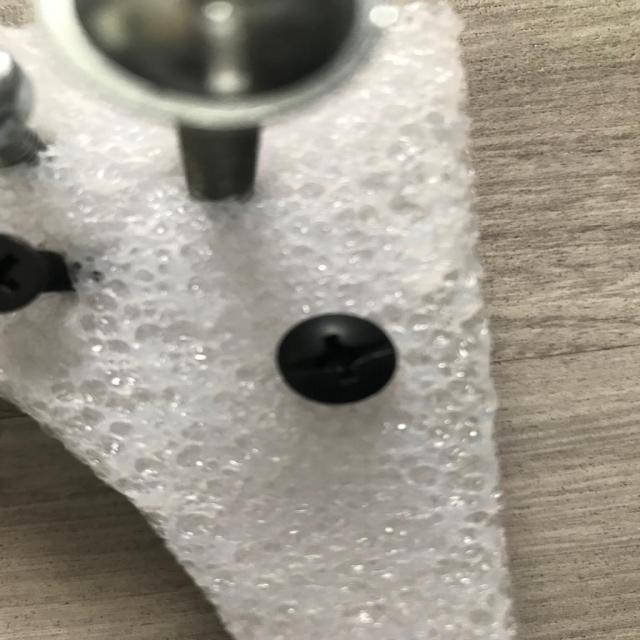PhillipsScrewHead: (277, 310, 398, 406), (0, 232, 44, 312)
